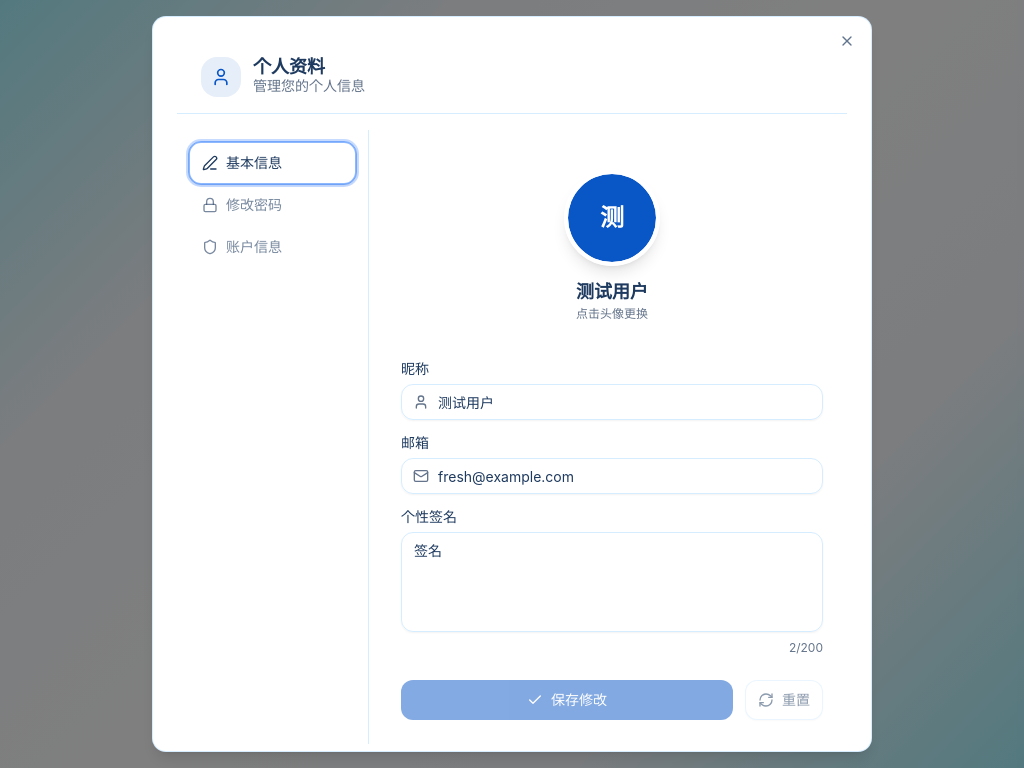
Test case: ProfileModal 的首屏：保存按钮不闪 › 资料已在 store 里时，保存按钮从第一次提交起就是灰的
This screenshot has width=1024, height=768.
Expected: the field showing "fresh@example.com" below "邮箱" is shown, [401, 458, 823, 494]
Expected: the button "保存修改" is disabled, [401, 680, 733, 720]
Type "丁" into the field showing "测试用户" below "昵称". click: coordinates (612, 402)
box: [401, 384, 823, 420]
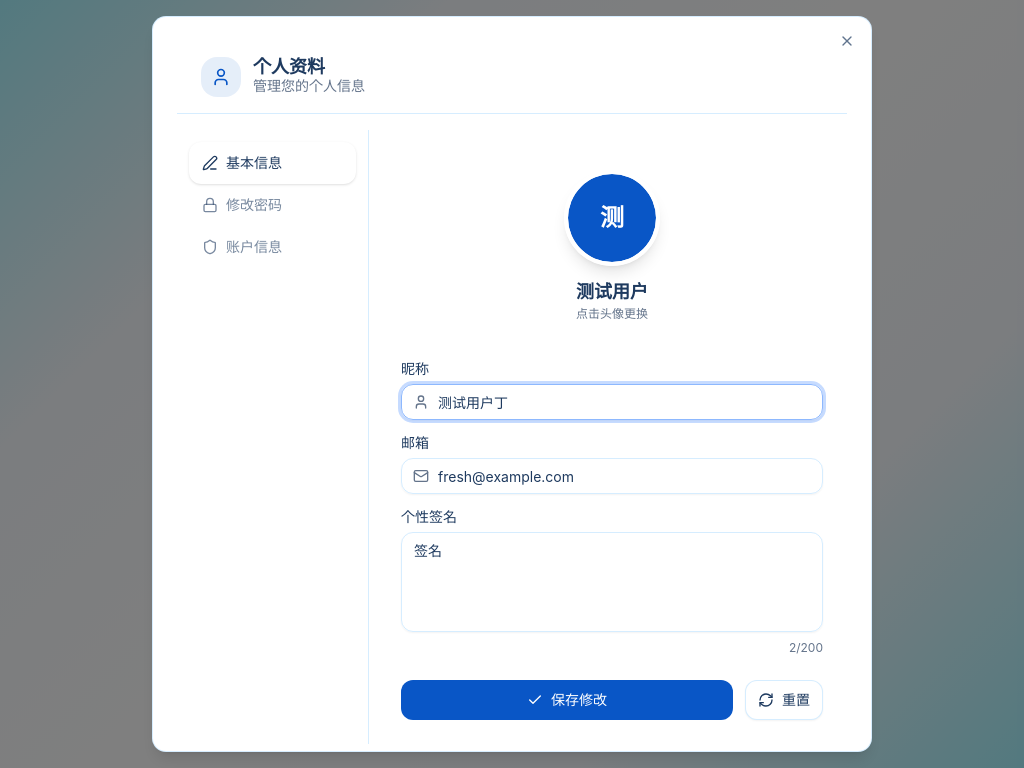
Expected: the button "保存修改" is enabled, [401, 680, 733, 720]
